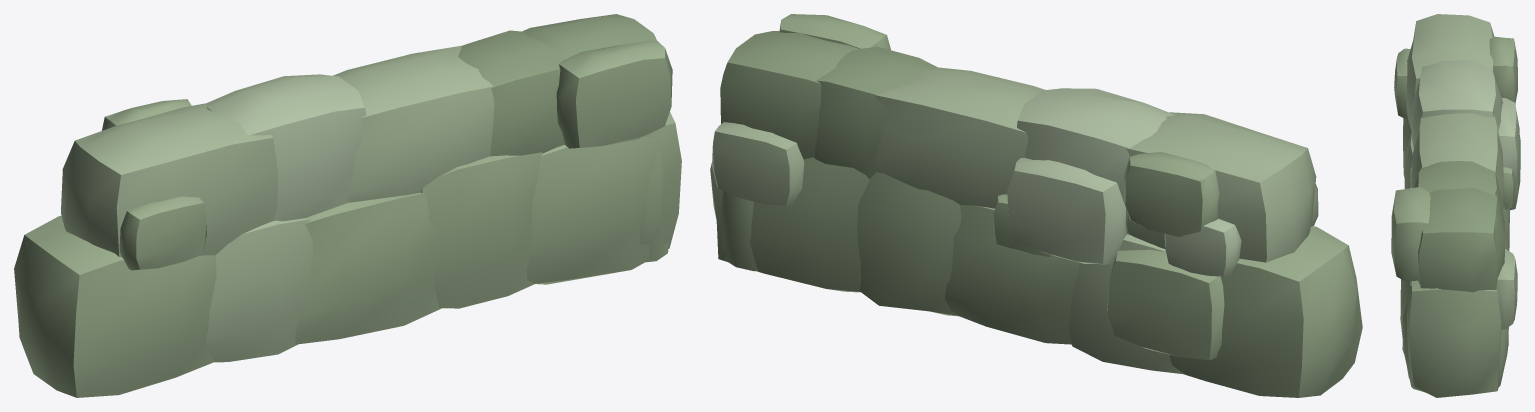
The model's file is fagyal-soveny2-5m.glb.
3 views of the same model, side by side, from view 1: azimuth 30°, elevation 25°; view 2: azimuth 150°, elevation 25°; view 3: azimuth 270°, elevation 25° (orthographic). The views are drawn at different scales.
Visible parts, largest first — view 1: blokk-also-1, blokk-felso-1, blokk-felso-3, blokk-also-5, blokk-also-3, blokk-also-4, blokk-felso-2, blokk-also-2, dudor-5, blokk-felso-4, dudor-8, blokk-felso-5 (+2 smaller); view 2: blokk-also-1, blokk-felso-3, blokk-felso-1, blokk-also-3, blokk-also-5, blokk-also-4, blokk-felso-5, dudor-7, dudor-4, blokk-felso-2, blokk-felso-4, dudor-1 (+6 smaller); view 3: blokk-also-5, blokk-felso-5, blokk-felso-2, blokk-felso-3, blokk-felso-1, dudor-5, blokk-felso-4, dudor-1, dudor-4, dudor-3, dudor-8, blokk-also-6 (+5 smaller).
Boxes of the visible parts, <box> form: blokk-also-1: <box>14,215,216,397</box>; blokk-felso-1: <box>61,103,277,256</box>; blokk-felso-3: <box>333,45,494,202</box>; blokk-also-5: <box>527,112,681,284</box>; blokk-also-3: <box>295,192,442,344</box>; blokk-also-4: <box>420,152,541,308</box>; blokk-felso-2: <box>206,74,365,221</box>; blokk-also-2: <box>206,218,313,362</box>; dudor-5: <box>556,40,672,148</box>; blokk-felso-4: <box>458,30,564,156</box>; dudor-8: <box>119,196,206,270</box>; blokk-felso-5: <box>522,14,656,59</box>; blokk-also-1: <box>1169,226,1362,397</box>; blokk-felso-3: <box>874,67,1045,208</box>; blokk-felso-1: <box>1126,112,1316,262</box>; blokk-also-3: <box>944,205,1079,344</box>; blokk-also-5: <box>710,157,869,292</box>; blokk-also-4: <box>857,172,961,316</box>; blokk-felso-5: <box>720,31,858,159</box>; dudor-7: <box>1107,249,1224,360</box>; dudor-4: <box>1007,158,1126,264</box>; blokk-felso-2: <box>1017,88,1175,234</box>; blokk-felso-4: <box>814,46,937,178</box>; dudor-1: <box>1124,152,1219,236</box>; blokk-also-5: <box>1400,279,1508,397</box>; blokk-felso-5: <box>1418,187,1505,292</box>; blokk-felso-2: <box>1412,60,1503,149</box>; blokk-felso-3: <box>1410,113,1503,209</box>; blokk-felso-1: <box>1406,14,1494,131</box>; dudor-5: <box>1391,187,1430,281</box>; blokk-felso-4: <box>1414,161,1503,216</box>; dudor-1: <box>1489,36,1517,102</box>; dudor-4: <box>1498,98,1519,192</box>; dudor-3: <box>1496,249,1517,329</box>; dudor-8: <box>1394,48,1410,118</box>; blokk-also-6: <box>1402,281,1508,392</box>.
Size of the model in its own units: 5.42 by 2 by 1.23.
